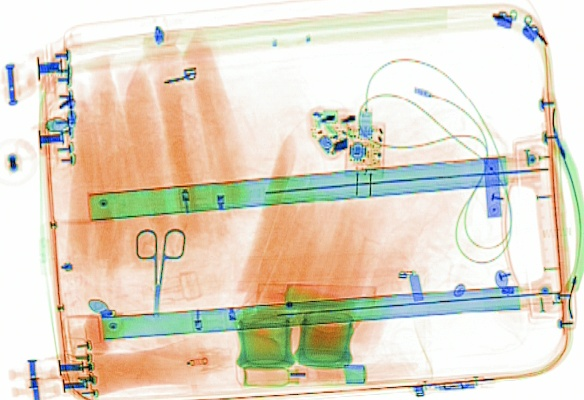scissors: (134, 225, 185, 320)
